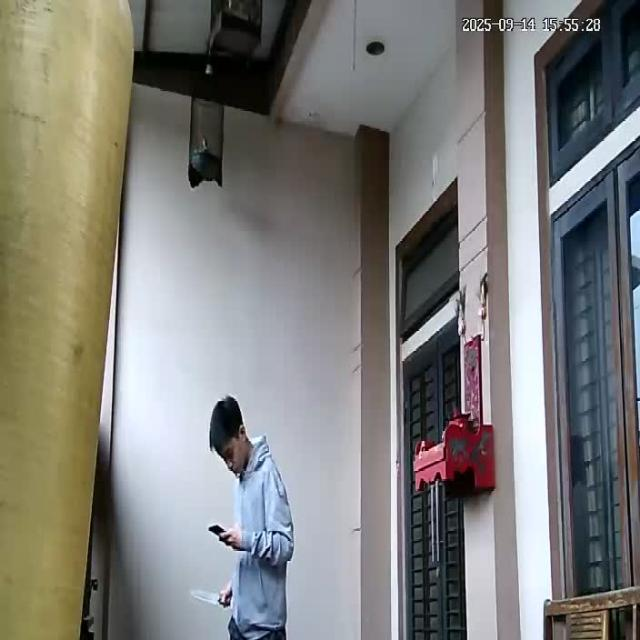senjata_tajam: (189, 589, 222, 606)
